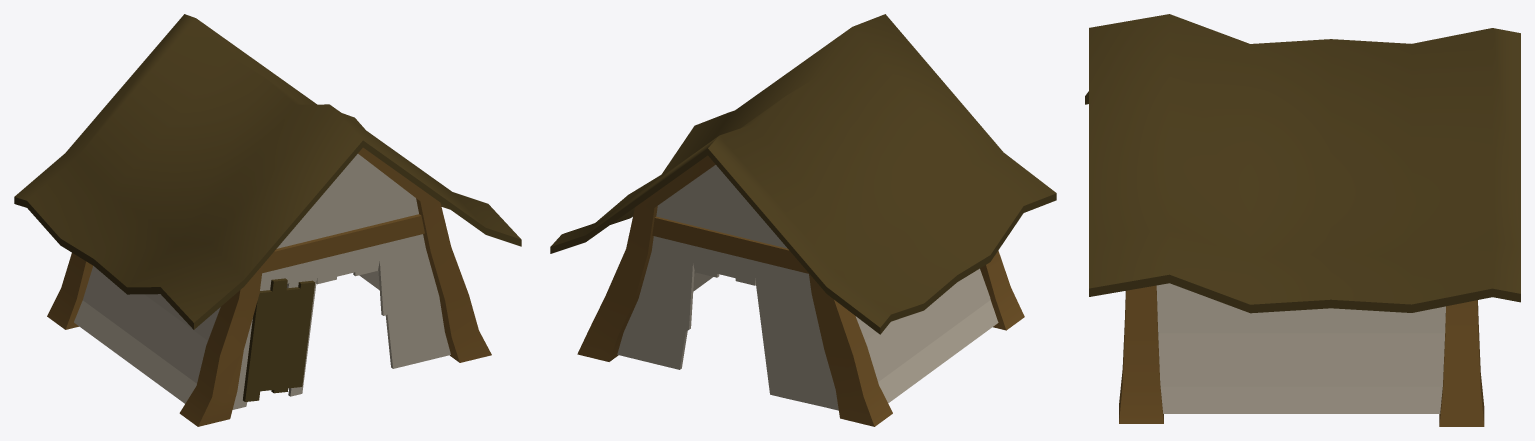
Rendered from woods_house.fbx.
3 views of the same model, side by side, from view 1: azimuth 30°, elevation 25°; view 2: azimuth 150°, elevation 25°; view 3: azimuth 270°, elevation 25° (orthographic). The views are drawn at different scales.
Visible parts, largest first — view 1: pCube18; view 2: pCube18; view 3: pCube18.
Boxes of the visible parts, x1,y1,x2,y2 form: pCube18: (14,14,521,426); pCube18: (550,14,1056,426); pCube18: (1085,14,1520,426).
Bounding box in the file's own units: 1286 × 1005 × 1215.
